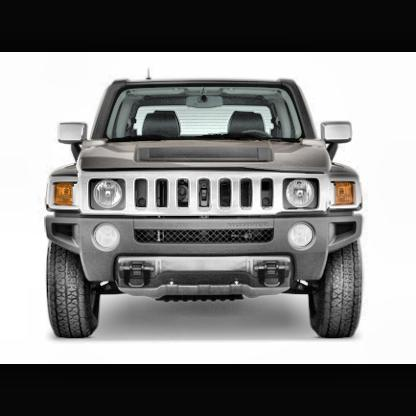HUMMER H3T Crew Cab 2010: (43, 67, 368, 341)
